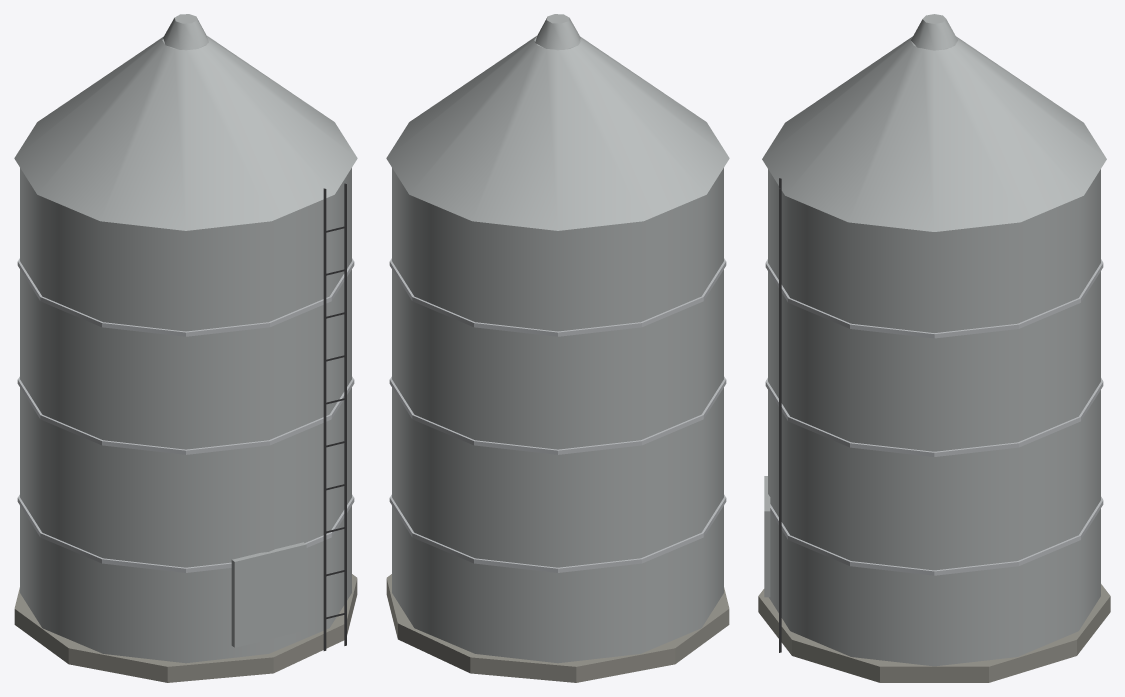
Rendered from grain_bin.glb.
The picture shows the model from 3 angles, left to right: view 1: azimuth 30°, elevation 25°; view 2: azimuth 150°, elevation 25°; view 3: azimuth 270°, elevation 25°; orthographic projection.
Parts seen in each view (by area): view 1: grain_bin; view 2: grain_bin; view 3: grain_bin.
Boxes of the visible parts, bbox=[...] form: grain_bin: bbox=[14, 14, 357, 682]; grain_bin: bbox=[386, 14, 729, 682]; grain_bin: bbox=[758, 14, 1110, 682].
Size of the model in its own units: 2.9 by 5.5 by 2.96.
Materials: 1 (1 with a texture image).
